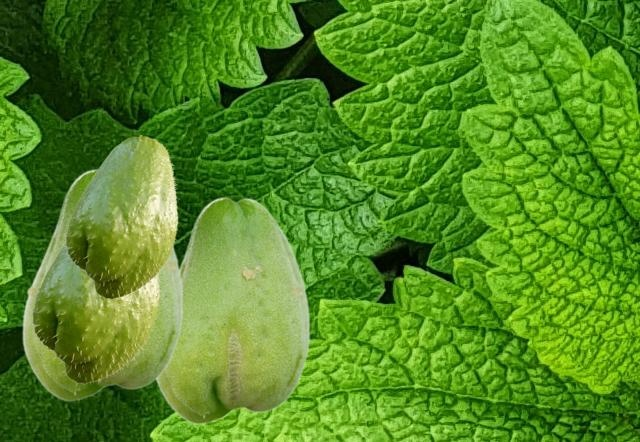sayote: (21, 168, 182, 400), (155, 196, 309, 423), (62, 135, 178, 300), (28, 241, 160, 385)
